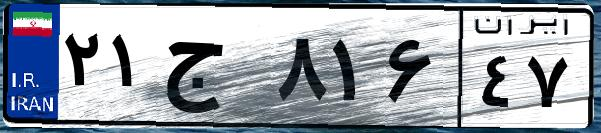1: (330, 28, 385, 110), (110, 28, 158, 98)
2: (57, 26, 110, 100)
4: (475, 38, 525, 113)
6: (385, 28, 445, 110)
7: (525, 38, 570, 115)
8: (270, 28, 330, 110)
ج: (158, 20, 270, 120)
